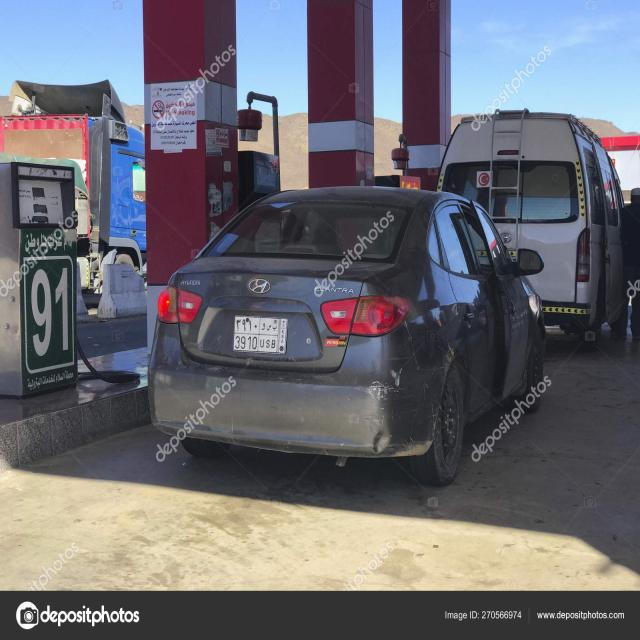license_plate: (232, 312, 290, 358)
